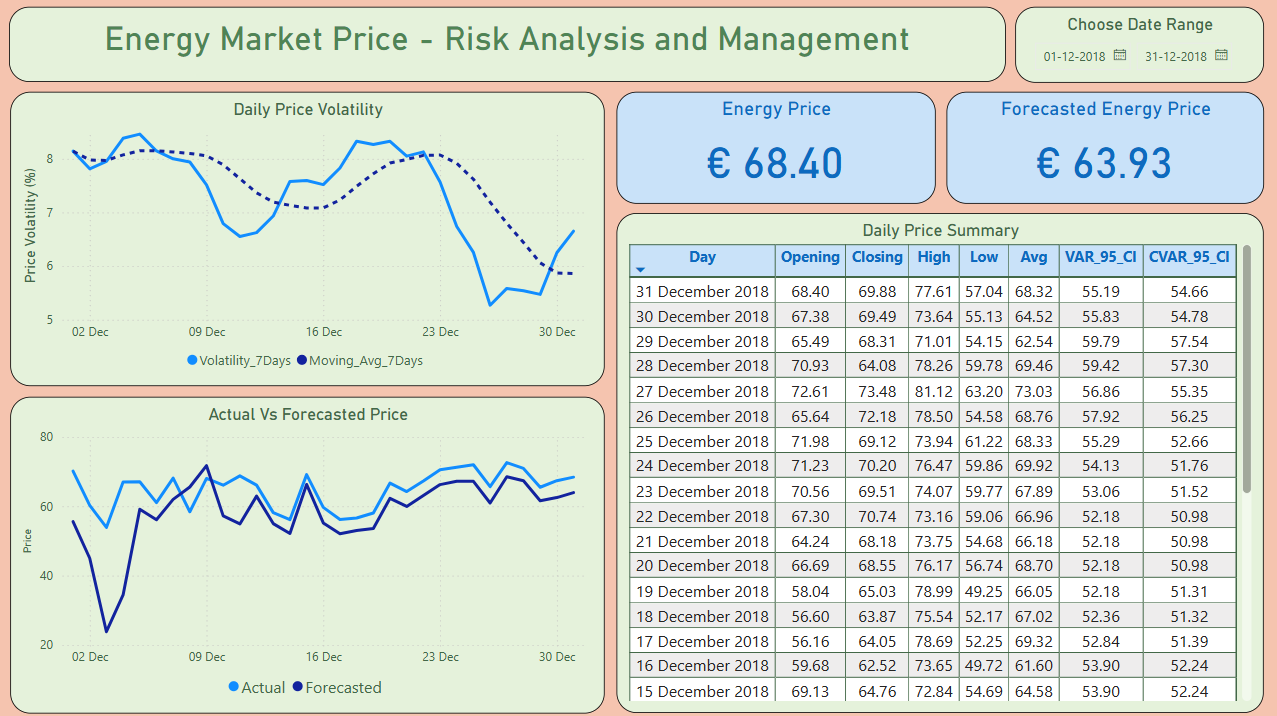

The dashboard page shown, as its layout file describes it:
{"tool":"powerbi","page":{"name":"Page 2","canvas":[1280,720],"ordinal":1},"visuals":[{"type":"tableEx","title":"Daily Price Summary","fields":{"Values":["public risk_metrics_daily.day Hierarchy.day","public risk_metrics_daily.op","public risk_metrics_daily.cp","public risk_metrics_daily.high","public risk_metrics_daily.low","public risk_metrics_daily.avg_price","public risk_metrics_daily.var_95","public risk_metrics_daily.cvar_95"]},"box":[617.6,215.6,647.1,500],"z":1000},{"type":"card","title":"Energy Price","fields":{"Values":["public energy_weather_data.Latest_Price_Actual"]},"box":[617.8,94.1,318.8,111.8],"z":3000},{"type":"card","title":"Forecasted Energy Price","fields":{"Values":["public energy_weather_data.Latest_Price_Forecast"]},"box":[947.2,94.1,317.6,111.8],"z":4000},{"type":"textbox","box":[10.5,8.5,996.9,75.4],"z":5000},{"type":"slicer","title":"Choose Date Range","fields":{"Values":["public risk_metrics_daily.day"]},"box":[1016.1,8.4,248.6,75.7],"z":6000},{"type":"lineChart","title":"Daily Price Volatility","fields":{"Category":["public risk_metrics_daily.day.Variation.Date Hierarchy.Year","public risk_metrics_daily.day.Variation.Date Hierarchy.Quarter","public risk_metrics_daily.day.Variation.Date Hierarchy.Month","public risk_metrics_daily.day.Variation.Date Hierarchy.Day"],"Y":["Avg(public risk_metrics_daily.volatility_7d)","public risk_metrics_daily.Moving_Avg_7Days"]},"box":[11.9,94.1,594.3,294.3],"z":6001},{"type":"lineChart","title":"Actual Vs Forecasted Price","fields":{"Y":["Avg(public energy_weather_data.price_actual)","Avg(public energy_weather_data.price_day_ahead)"],"Category":["public energy_weather_data.date_time.Variation.Date Hierarchy.Year"]},"box":[11.9,398.4,594.3,317.1],"z":6002}]}

Visuals, with their boxes in screenshot pixels (x1, y1, x2, y2), scaled from the page's 1280x720 canvas onto the 1277x716 screenshot:
"Daily Price Summary" tableEx: 616:214:1262:712
"Energy Price" card: 616:94:934:205
"Forecasted Energy Price" card: 945:94:1262:205
textbox: 10:8:1005:83
"Choose Date Range" slicer: 1014:8:1262:84
"Daily Price Volatility" lineChart: 12:94:605:386
"Actual Vs Forecasted Price" lineChart: 12:396:605:712
